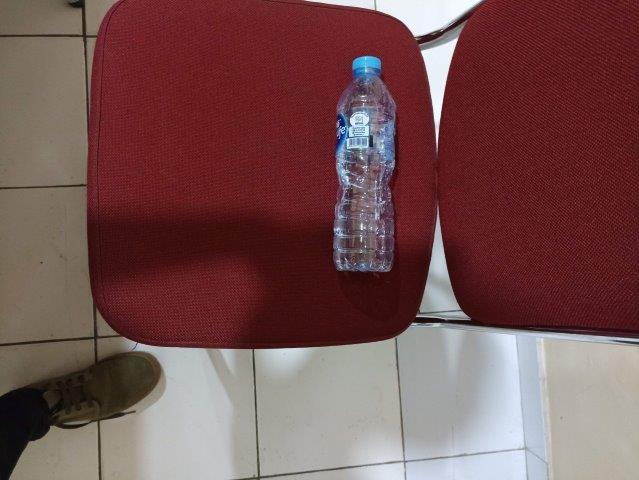botolplastik: (336, 56, 394, 273)
